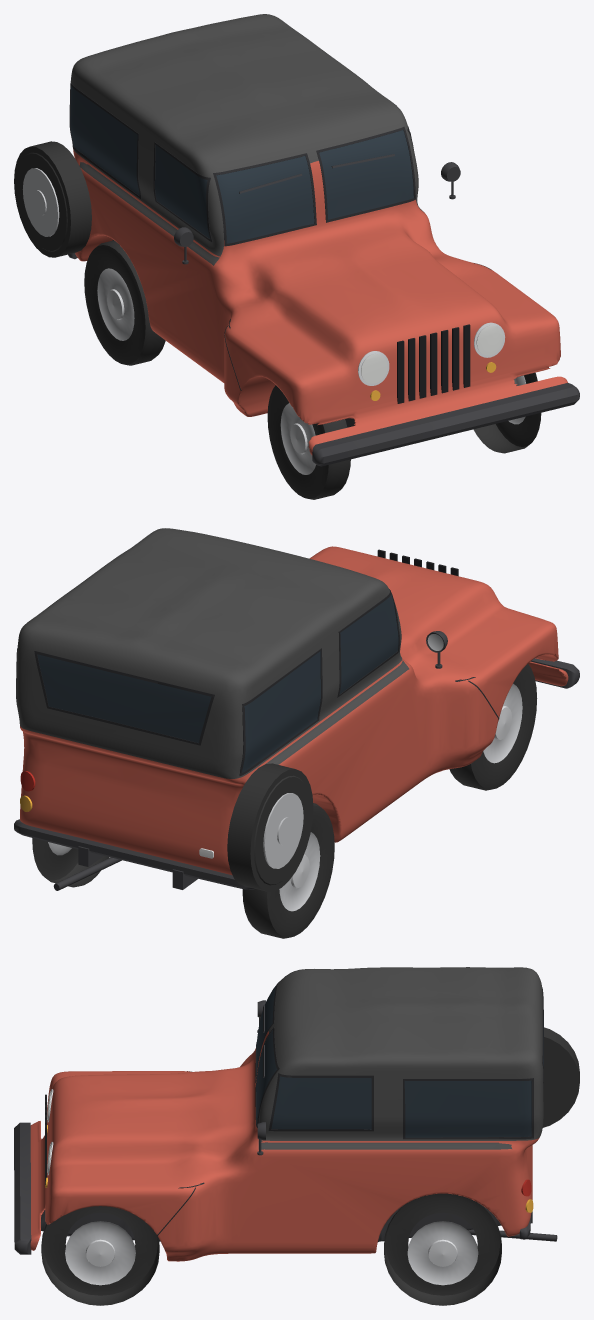
File: foxgt.glb
3 renders of one model, top to bottom at view 1: azimuth 30°, elevation 25°; view 2: azimuth 150°, elevation 25°; view 3: azimuth 270°, elevation 25°, orthographic. The views are drawn at different scales.
Visible parts, largest first — view 1: paint, trim, glass, wheel_rr, wheel_fr, wheel_fl, headlights; view 2: paint, trim, glass, wheel_rr, wheel_fr, wheel_rl; view 3: paint, glass, wheel_rl, trim, wheel_fl.
Part boxes in pixels (x1,y1,x2,y2): paint: (70,14,567,455); trim: (14,82,579,466); glass: (70,86,413,243); wheel_rr: (84,240,165,365); wheel_fr: (267,385,350,499); wheel_fl: (473,372,541,453); headlights: (361,325,503,383); paint: (16,528,568,875); trim: (14,549,579,891); glass: (37,594,398,772); wheel_rr: (242,803,334,938); wheel_fr: (449,664,537,790); wheel_rl: (32,838,109,887); paint: (30,967,543,1261); glass: (256,986,543,1137); wheel_rl: (384,1193,501,1305); trim: (14,981,579,1254); wheel_fl: (41,1206,159,1305).
Size of the model in its own units: 1.84 by 1.69 by 3.4.
